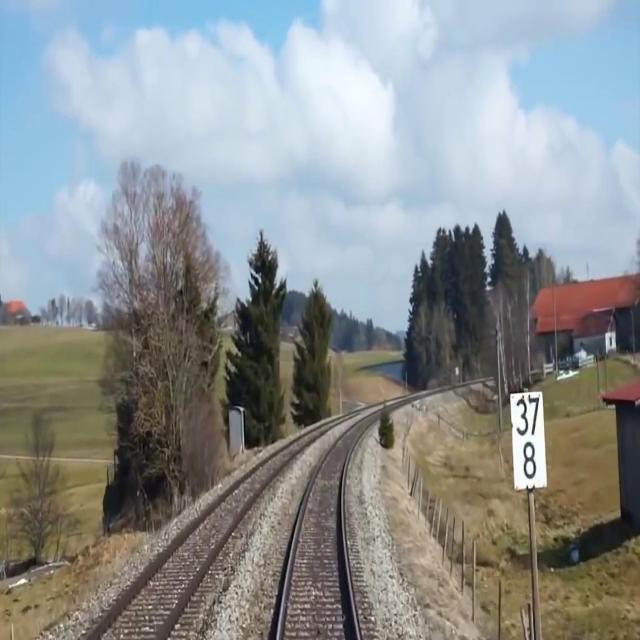rail-track: (92, 437, 307, 639), (281, 423, 363, 639)
